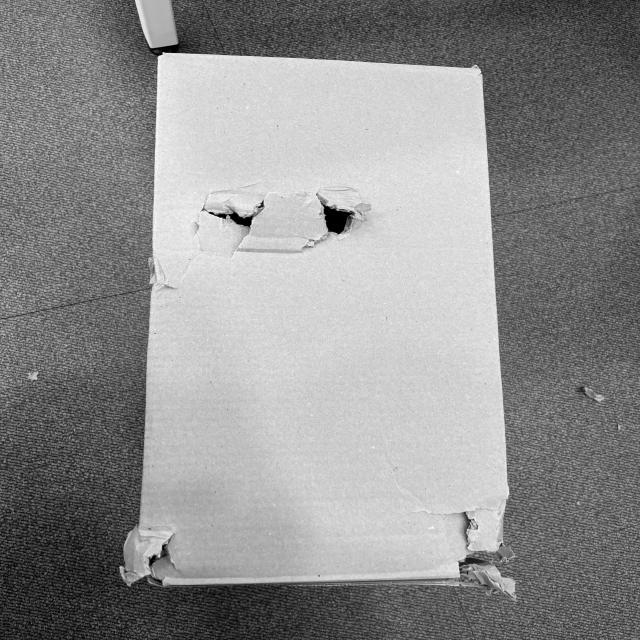hole: (204, 194, 364, 244), (106, 511, 199, 594), (448, 510, 504, 586)
